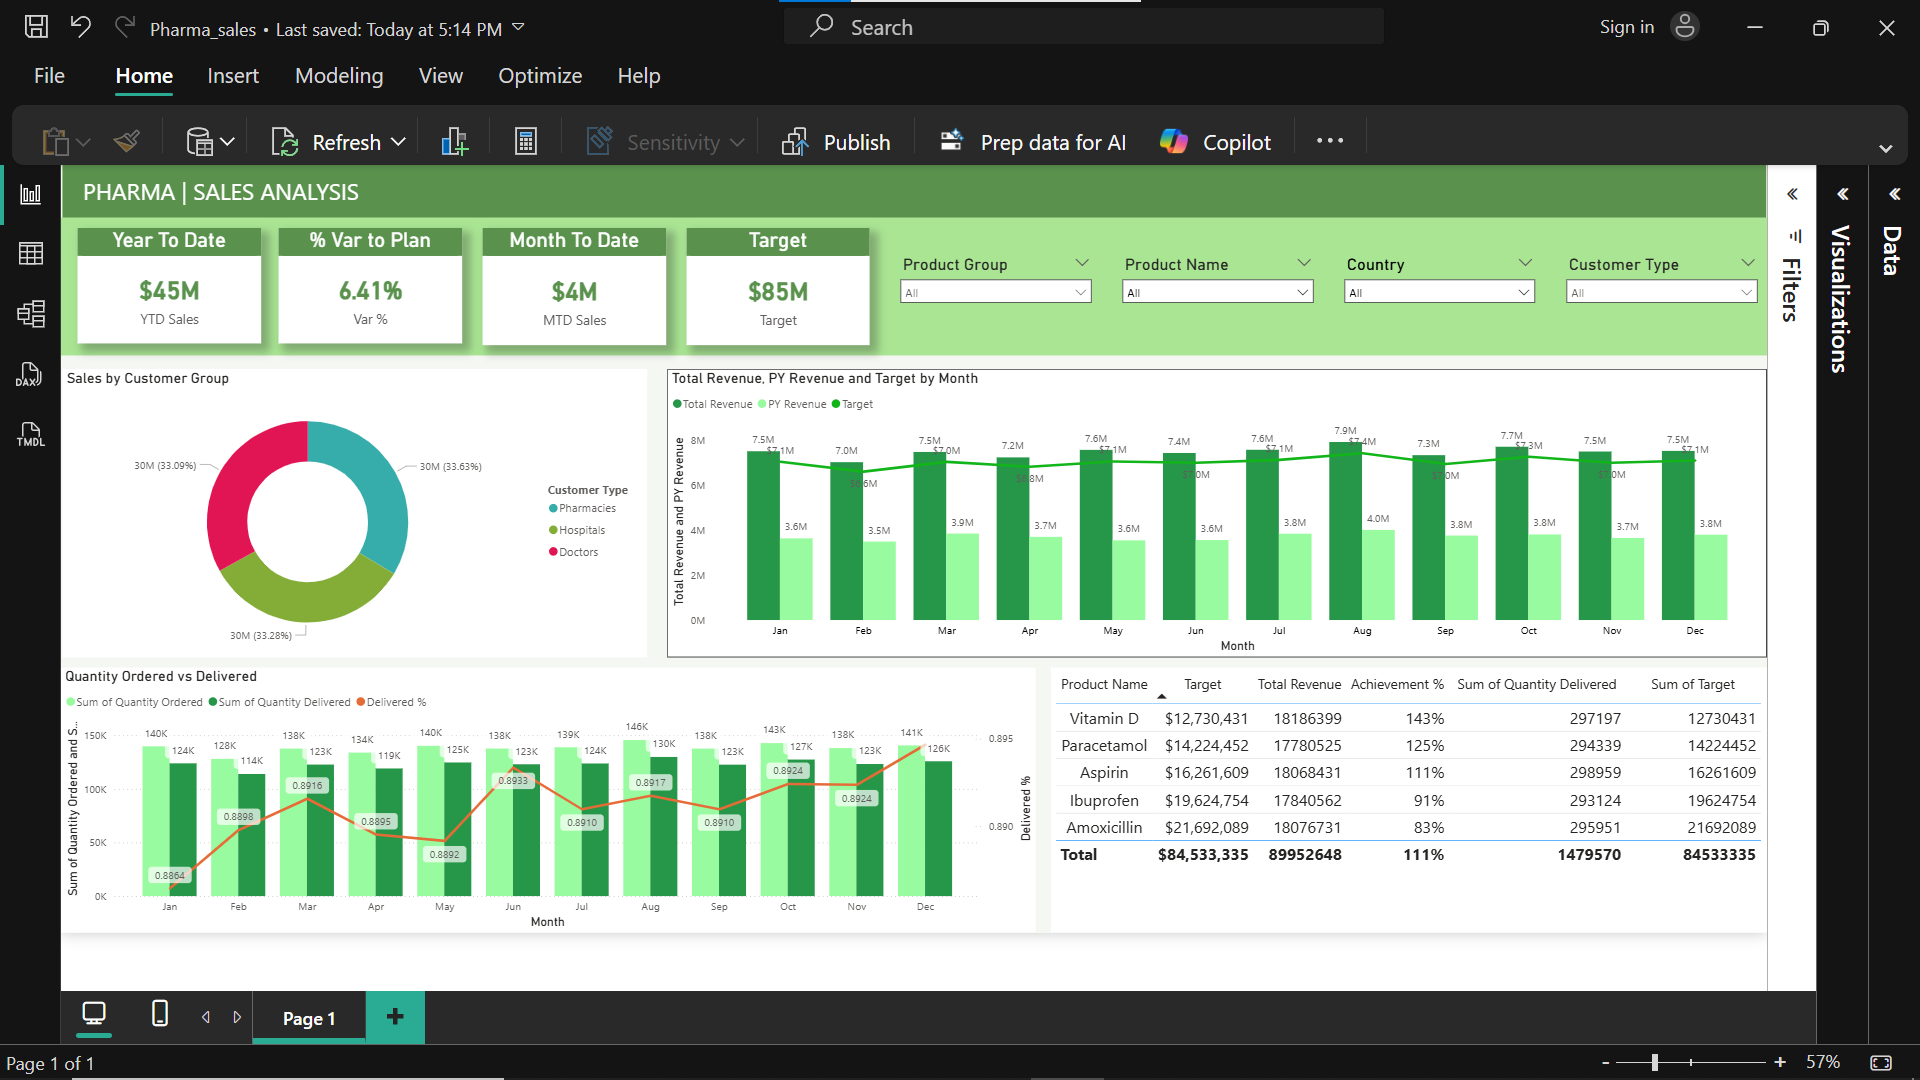

What the dashboard file says about the page in this screenshot:
{"tool":"powerbi","page":{"name":"Page 1","canvas":[2000,900],"ordinal":0},"visuals":[{"type":"donutChart","title":"Sales by Customer Group","fields":{"Category":["Pharma_sales.Customer Type"],"Y":["Measure (2).Total Revenue"]},"box":[2.1,238.3,685.1,338.3],"z":8000},{"type":"lineClusteredColumnComboChart","fields":{"Category":["DateTable.Month"],"Y":["Measure (2).Total Revenue","Measure (2).PY Revenue"],"Y2":["Measure (2).Target"]},"box":[710.6,238.3,1289.4,338.3],"z":9000},{"type":"tableEx","fields":{"Values":["Pharma_sales.Product Name","Measure (2).Target","Measure (2).Total Revenue","Measure (2).Achievement %","Sum(Pharma_sales.Quantity Delivered)","Sum(Pharma_sales.Target)"]},"box":[1160.1,589.1,839.3,310.7],"z":10000},{"type":"lineClusteredColumnComboChart","title":"Quantity Ordered vs Delivered","fields":{"Category":["DateTable.Month"],"Y":["Sum(Pharma_sales.Quantity Ordered)","Sum(Pharma_sales.Quantity Delivered)"],"Y2":["DateTable.Delivered %"]},"box":[0,589.4,1142.6,310.6],"z":11000},{"type":"shape","box":[2,0,1997.3,62.5],"z":12000},{"type":"shape","box":[0,61.7,2000,161.7],"z":15500},{"type":"card","title":"Year To Date","fields":{"Values":["Measure (2).YTD Sales"]},"box":[19.1,74.5,215,135],"z":16500},{"type":"card","title":"% Var to Plan","fields":{"Values":["Measure (2).Var %"]},"box":[255.3,74.5,215,135],"z":17000},{"type":"card","title":"Month To Date","fields":{"Values":["Measure (2).MTD Sales"]},"box":[494.5,73.3,215.3,137.2],"z":17500},{"type":"card","title":"Target","fields":{"Values":["Measure (2).Target"]},"box":[733.3,73.9,214.5,137.2],"z":18000},{"type":"slicer","fields":{"Values":["Pharma_sales.Product Group"]},"box":[974.8,99.4,243.7,82.8],"z":18500},{"type":"slicer","fields":{"Values":["Pharma_sales.Customer Type"]},"box":[1755.5,99.4,243.7,82.8],"z":19000},{"type":"slicer","fields":{"Values":["Pharma_sales.Country"]},"box":[1495.3,99.4,243,82.8],"z":19500},{"type":"slicer","fields":{"Values":["Pharma_sales.Product Name"]},"box":[1235,99.4,243.7,82.8],"z":20000}]}

Visuals, with their boxes on the page's 2000x900 design canvas (x1, y1, x2, y2). These are canvas units, not pixel positions in the 1920x1080 screenshot, which may show the page scaled, cropped or inside an application window:
"Sales by Customer Group" donutChart: 2/238/687/577
lineClusteredColumnComboChart - DateTable.Month x Measure (2).Total Revenue: 711/238/2000/577
tableEx - Pharma_sales.Product Name x Measure (2).Target: 1160/589/1999/900
"Quantity Ordered vs Delivered" lineClusteredColumnComboChart: 0/589/1143/900
shape: 2/0/1999/62
shape: 0/62/2000/223
"Year To Date" card: 19/74/234/210
"% Var to Plan" card: 255/74/470/210
"Month To Date" card: 494/73/710/210
"Target" card: 733/74/948/211
slicer - Pharma_sales.Product Group: 975/99/1218/182
slicer - Pharma_sales.Customer Type: 1756/99/1999/182
slicer - Pharma_sales.Country: 1495/99/1738/182
slicer - Pharma_sales.Product Name: 1235/99/1479/182
